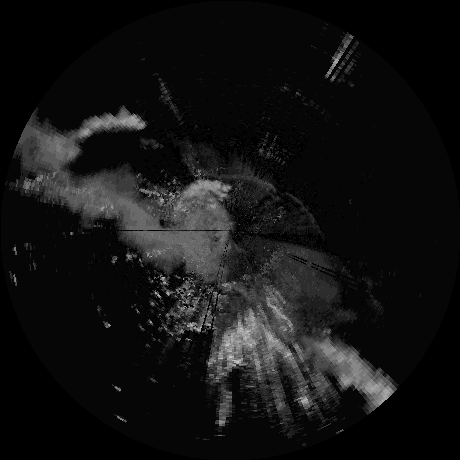frontgust: (205, 170, 277, 189)
